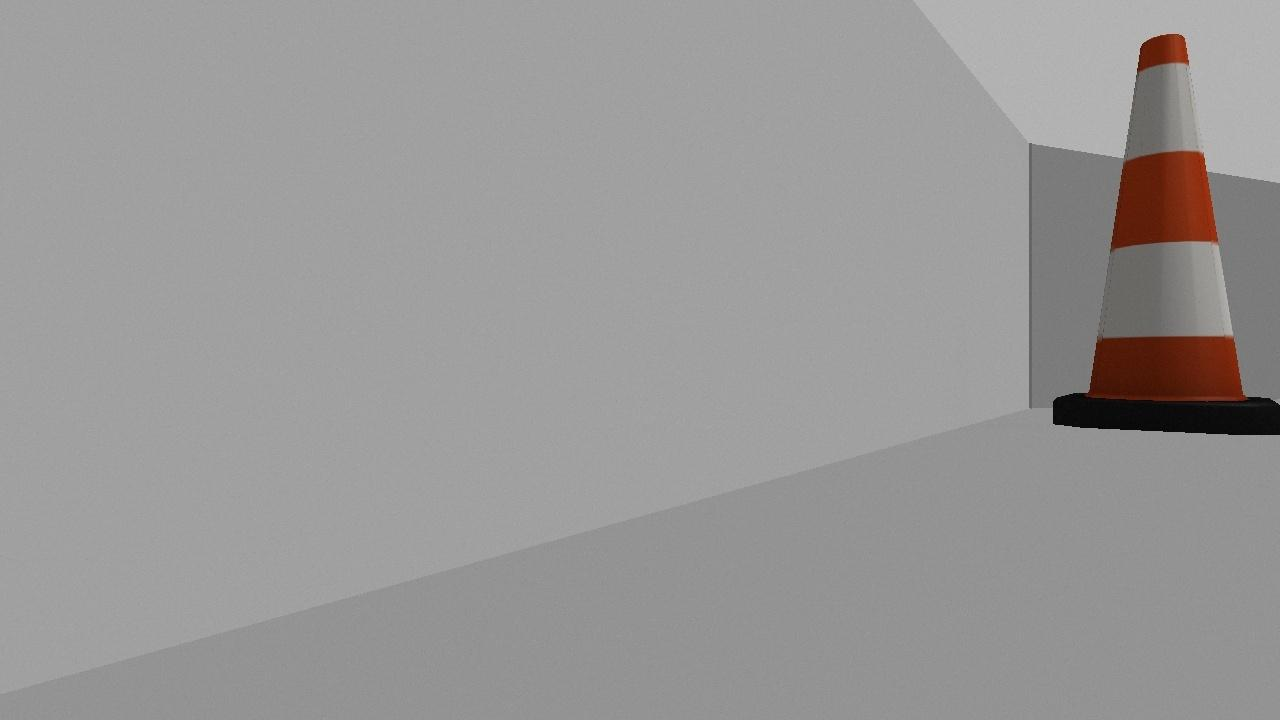cone_barrel: (1038, 29, 1279, 461)
